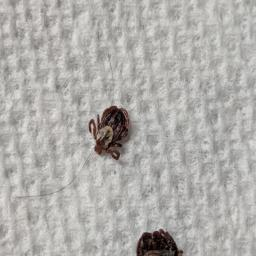Dermacentor variabilis: (87, 104, 130, 160)
